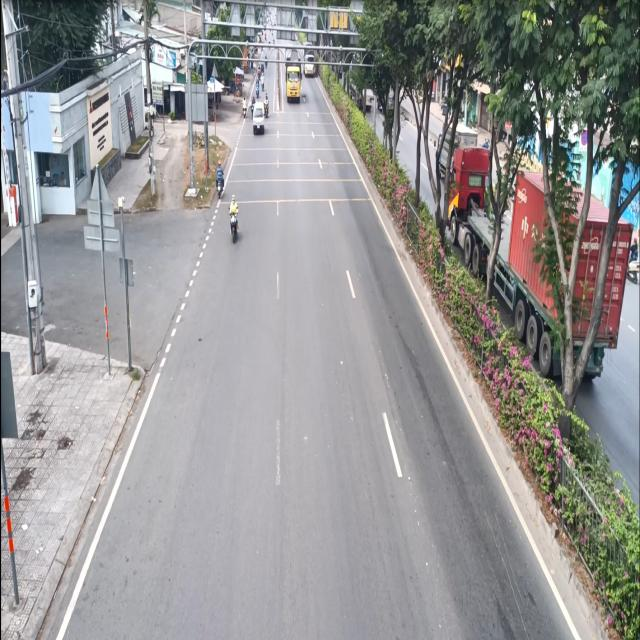car: (253, 100, 265, 138)
motor: (226, 190, 244, 244), (214, 158, 225, 201)
truck: (286, 53, 303, 106)
